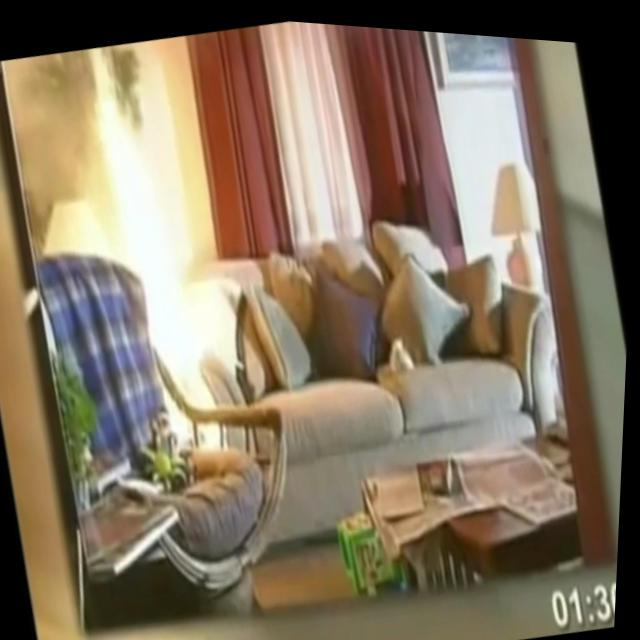fire: (67, 32, 255, 458)
